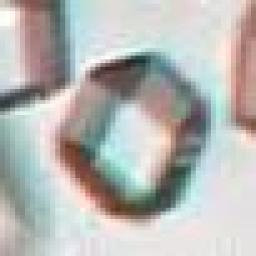crystals: (52, 45, 215, 229)
